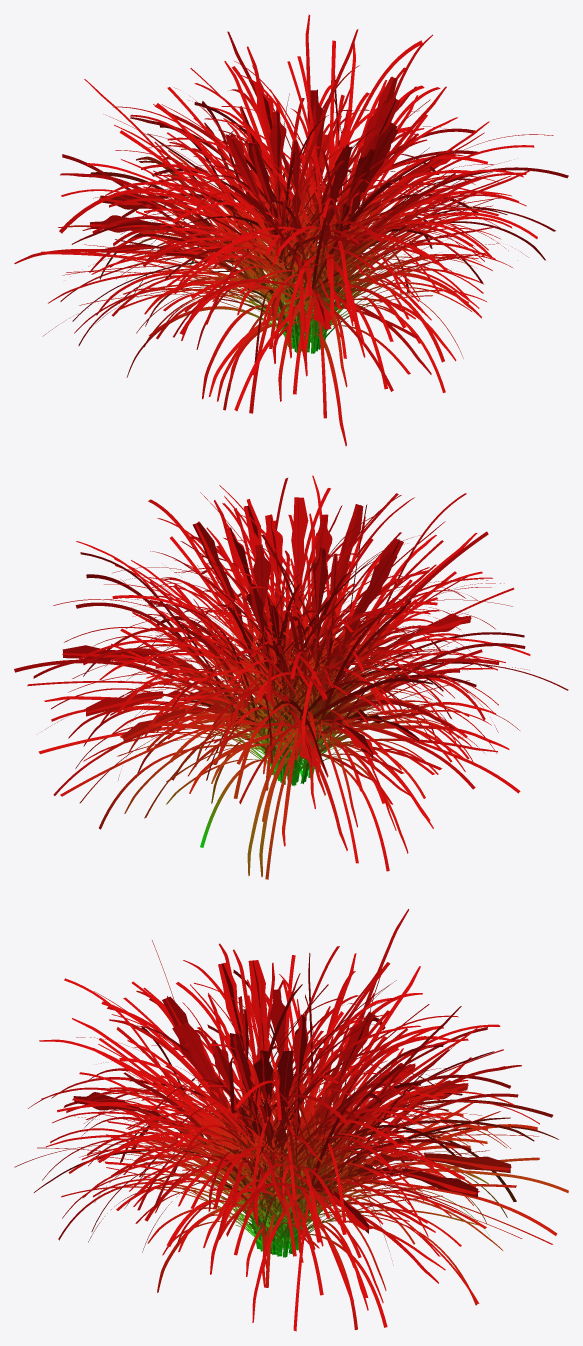
The model's file is slfpffjr_Var5_LOD0.fbx.
The picture shows the model from 3 angles, top to bottom: view 1: azimuth 30°, elevation 25°; view 2: azimuth 150°, elevation 25°; view 3: azimuth 270°, elevation 25°; orthographic projection. The views are drawn at different scales.
Visible parts, largest first — view 1: _bfd4_Var5_LOD0; view 2: _bfd4_Var5_LOD0; view 3: _bfd4_Var5_LOD0.
Part boxes in pixels (left/top/right/bottom): _bfd4_Var5_LOD0: left=14, top=14, right=568, bottom=446; _bfd4_Var5_LOD0: left=14, top=475, right=568, bottom=879; _bfd4_Var5_LOD0: left=14, top=909, right=568, bottom=1331.
Size of the model in its own units: 127 by 74.72 by 119.
